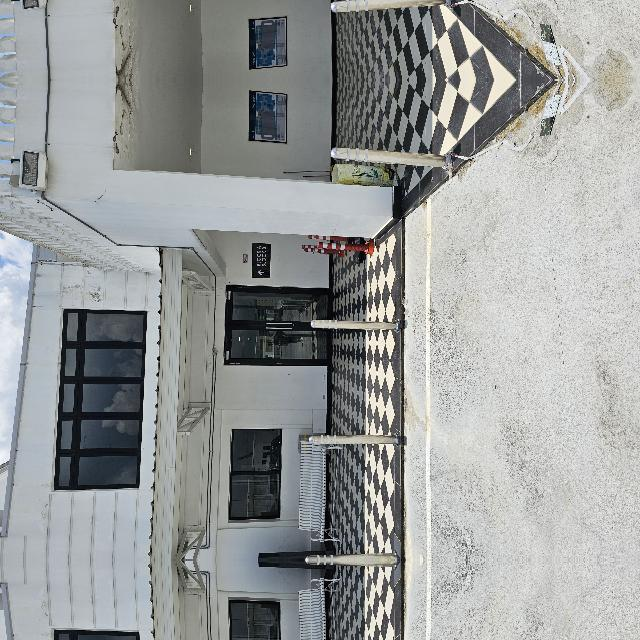door: (193, 303, 274, 413)
obstacle: (15, 372, 121, 423), (391, 410, 413, 534), (110, 386, 134, 480), (304, 382, 326, 454), (228, 388, 242, 478), (391, 586, 413, 640)
